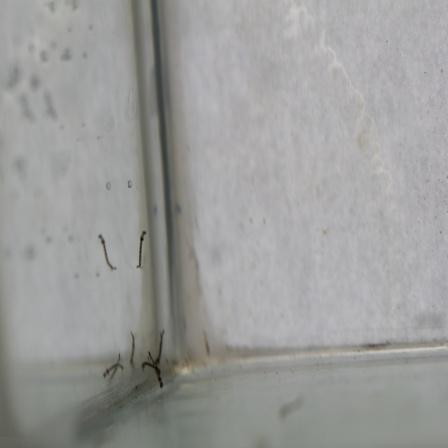Jentik-Nyamuk: (141, 327, 167, 395), (133, 226, 150, 275)
